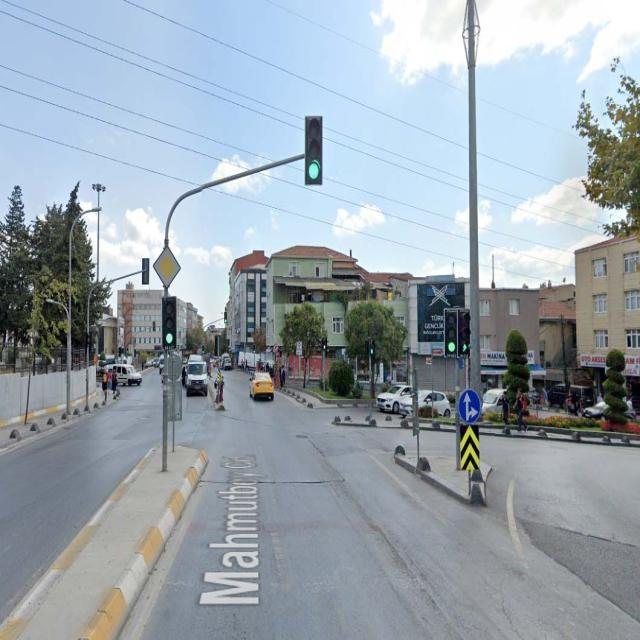ilerisag: (460, 388, 480, 422)
yesil: (307, 116, 322, 184), (161, 296, 177, 352), (444, 308, 457, 356)
